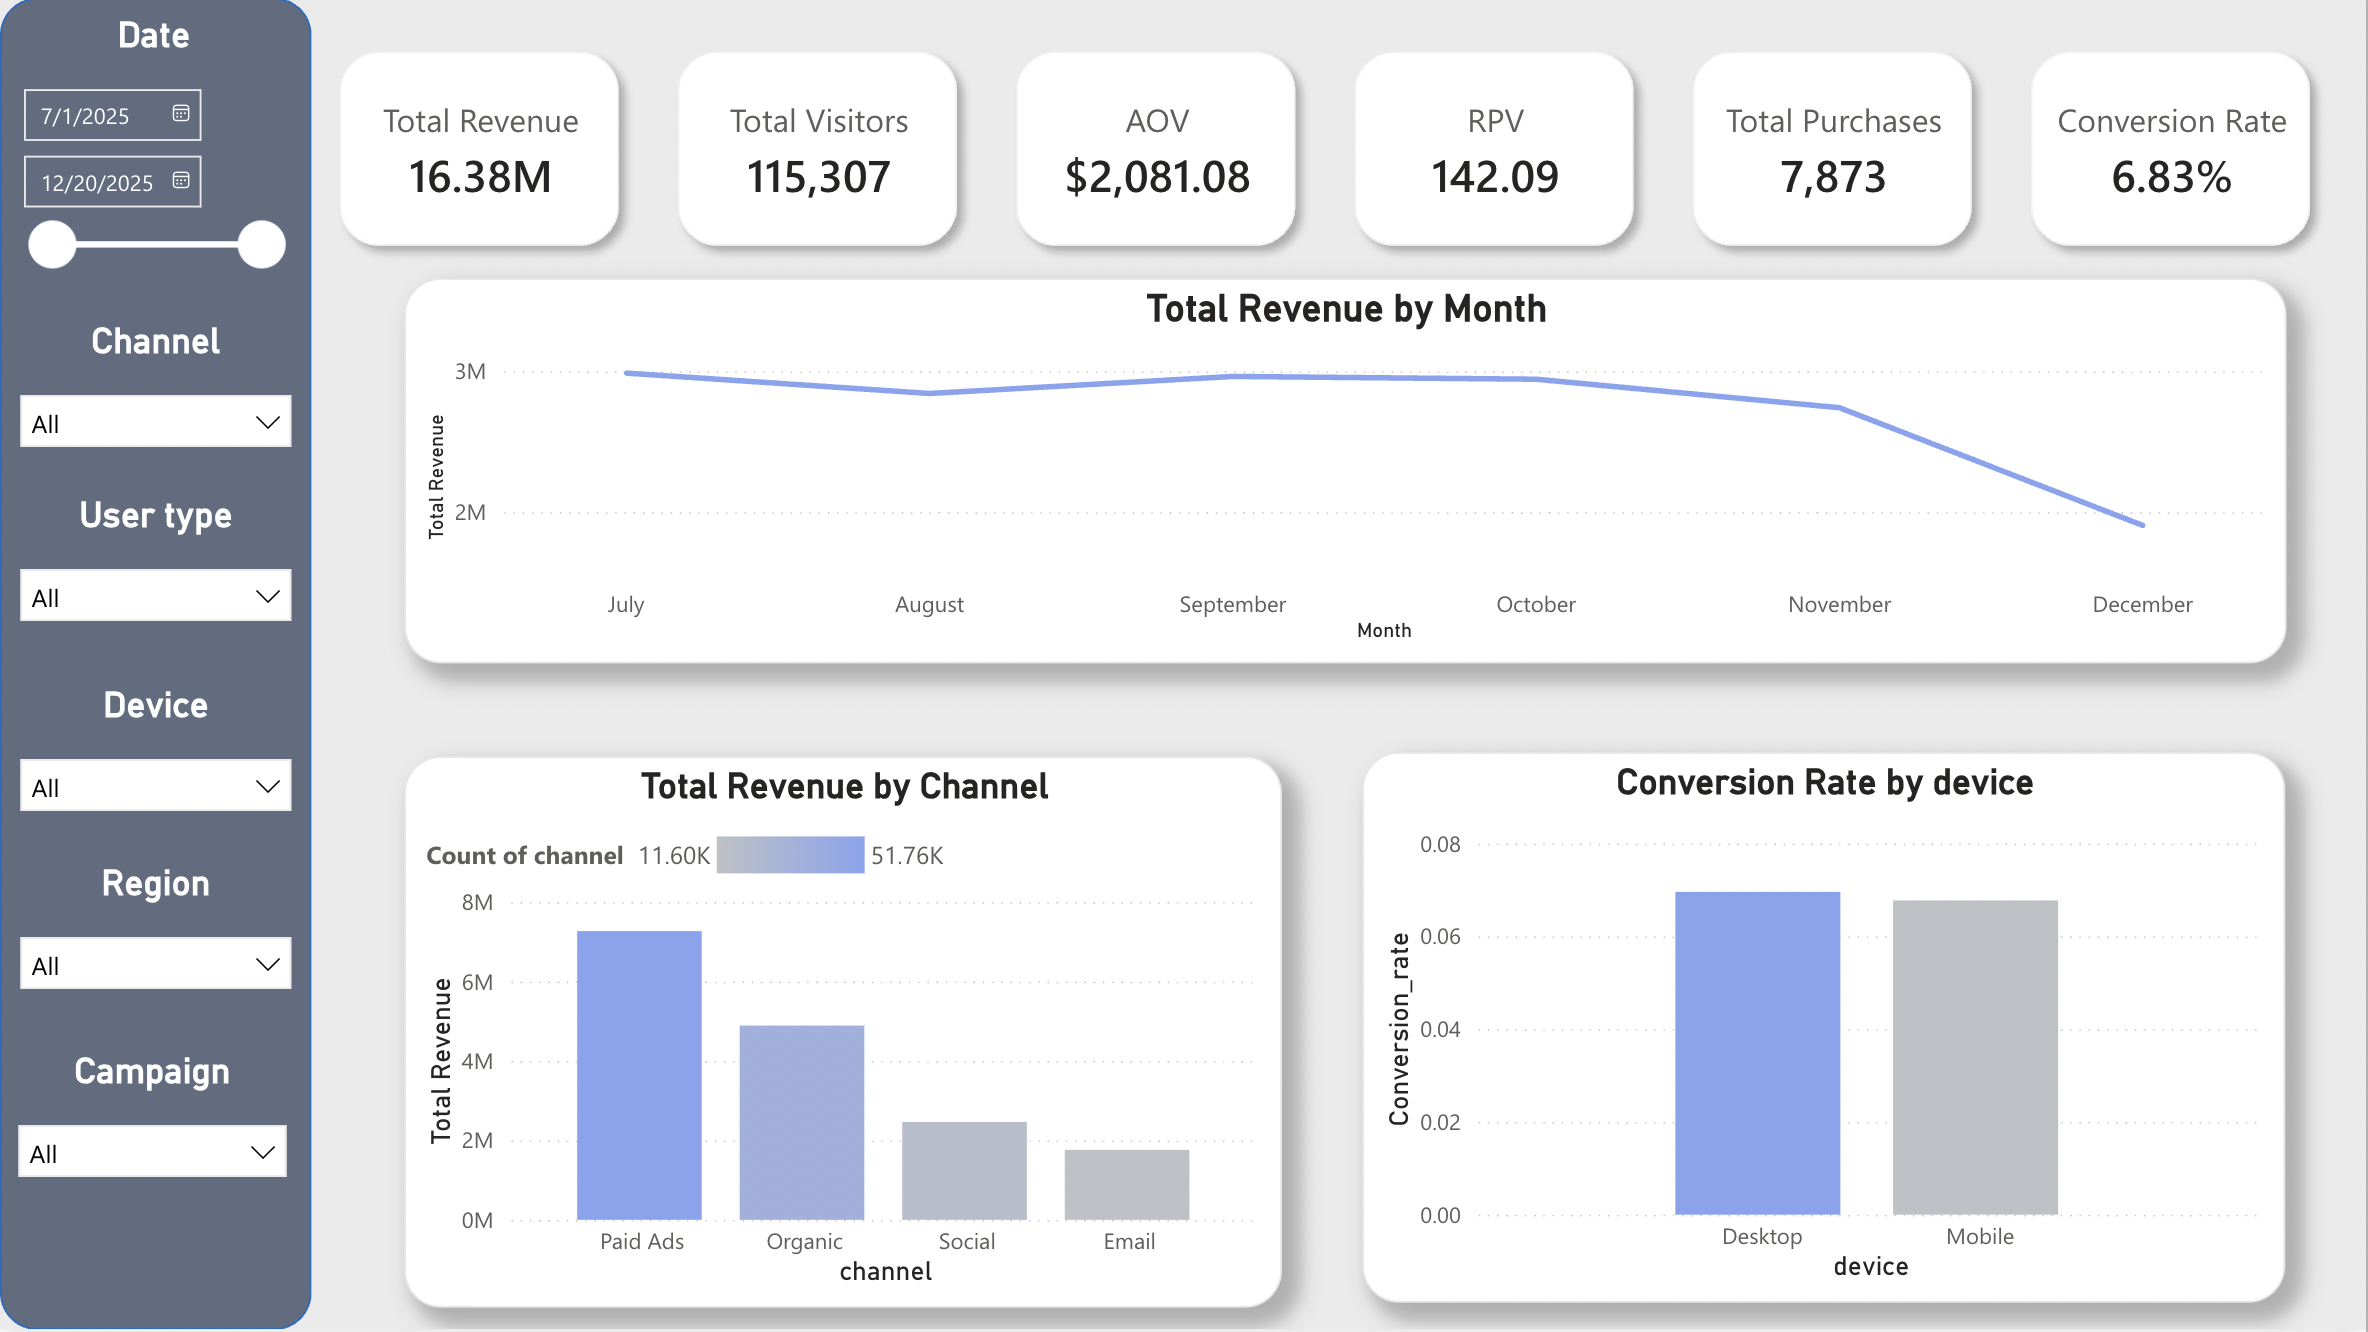

The page's visual inventory and layout, read from the dashboard file:
{"tool":"powerbi","page":{"name":"Executive Dashboard","canvas":[1280,720],"ordinal":0},"visuals":[{"type":"shape","box":[0,0,168.6,720.6],"z":0},{"type":"columnChart","title":"Total Revenue by Channel","fields":{"Category":["clean_data_for_analysis.channel"],"Y":["clean_data_for_analysis.Total Revenue"]},"box":[218.3,410,475,298.3],"z":1000},{"type":"slicer","title":"Channel","fields":{"Values":["clean_data_for_analysis.channel"]},"box":[1.5,176,166.7,78.3],"z":2000},{"type":"slicer","title":"Device","fields":{"Values":["clean_data_for_analysis.device"]},"box":[1.5,373,166.7,75],"z":3000},{"type":"slicer","title":"User type","fields":{"Values":["clean_data_for_analysis.user_type"]},"box":[1.5,270,166.7,75],"z":4000},{"type":"slicer","title":"Region","fields":{"Values":["clean_data_for_analysis.region"]},"box":[1.5,469.9,166.7,76.7],"z":5000},{"type":"slicer","title":"Campaign ","fields":{"Values":["clean_data_for_analysis.campaign_type"]},"box":[0,571.4,165,70],"z":6000},{"type":"cardVisual","fields":{"Data":["clean_data_for_analysis.Total Revenue","clean_data_for_analysis.Total Visitors","clean_data_for_analysis.AOV","clean_data_for_analysis.RPV","clean_data_for_analysis.Total Purchases","clean_data_for_analysis.Conversion Rate"]},"box":[155.2,0,1125,163.3],"z":7000},{"type":"lineChart","title":"Total Revenue by Month","fields":{"Category":["clean_data_for_analysis.date.变体.Date Hierarchy.Month"],"Y":["clean_data_for_analysis.Total Revenue"]},"box":[218.3,151.7,1018.3,208.3],"z":8000},{"type":"columnChart","title":"Conversion Rate by device","fields":{"Category":["clean_data_for_analysis.device"],"Y":["clean_data_for_analysis.Conversion_rate"]},"box":[736.7,408.3,499.6,297.9],"z":9000},{"type":"slicer","title":"Date","fields":{"Values":["clean_data_for_analysis.date"]},"box":[0,10.4,166.7,178.3],"z":10000}]}

Visuals, with their boxes in screenshot pixels (x1, y1, x2, y2), scaled from the page's 1280x720 canvas onto the 2368x1332 screenshot:
shape: <box>0,0,312,1331</box>
"Total Revenue by Channel" columnChart: <box>404,758,1283,1310</box>
"Channel" slicer: <box>3,326,311,470</box>
"Device" slicer: <box>3,690,311,829</box>
"User type" slicer: <box>3,500,311,638</box>
"Region" slicer: <box>3,869,311,1011</box>
"Campaign " slicer: <box>0,1057,305,1187</box>
cardVisual - clean_data_for_analysis.Total Revenue x clean_data_for_analysis.Total Visitors: <box>287,0,2367,302</box>
"Total Revenue by Month" lineChart: <box>404,281,2288,666</box>
"Conversion Rate by device" columnChart: <box>1363,755,2287,1306</box>
"Date" slicer: <box>0,19,308,349</box>
